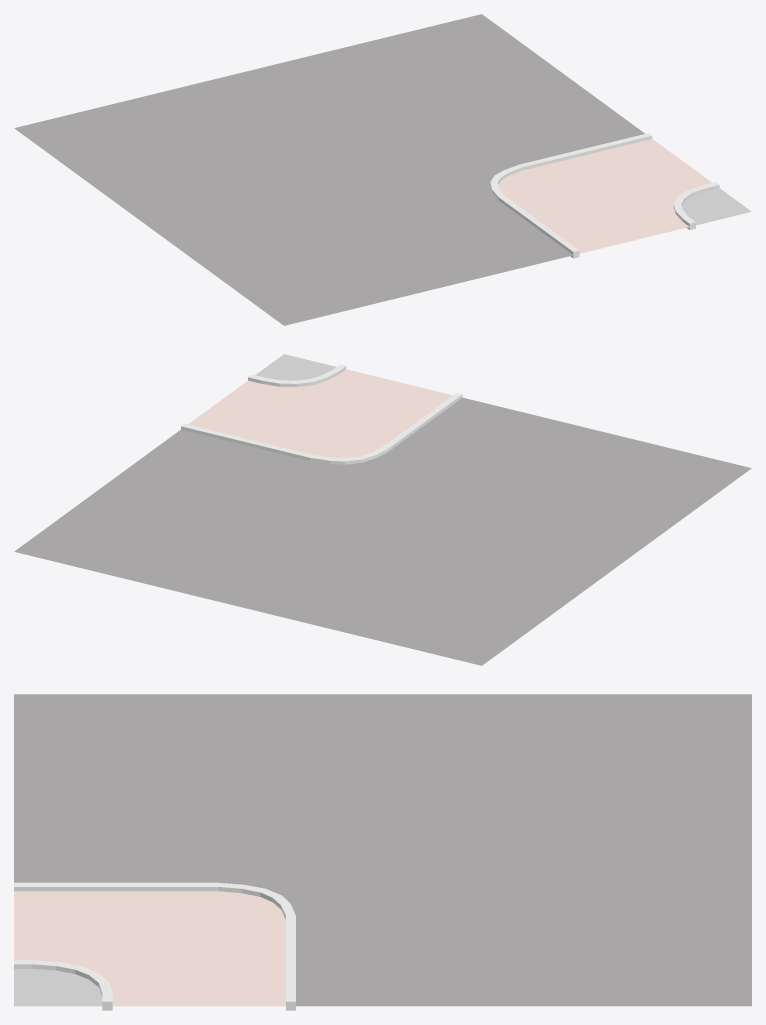
The model's file is building_platform_011.glb.
3 views of the same model, one above another, from view 1: azimuth 30°, elevation 25°; view 2: azimuth 150°, elevation 25°; view 3: azimuth 270°, elevation 25° (orthographic). The views are drawn at different scales.
Parts seen in each view (by area): view 1: building_platform_011; view 2: building_platform_011; view 3: building_platform_011.
Boxes of the visible parts, x1,y1,x2,y2 form: building_platform_011: (14,14,751,325); building_platform_011: (14,354,751,665); building_platform_011: (14,694,751,1010).
Bounding box in the file's own units: 15 × 0.2 × 15.
1 material, 1 textured.
